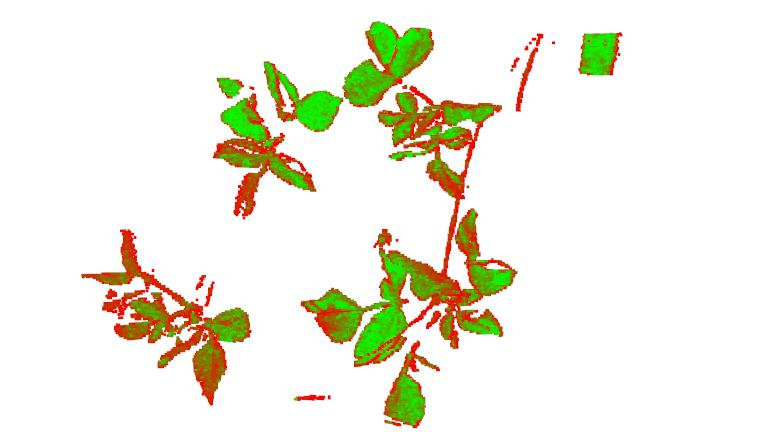mungbean: (300, 209, 520, 429), (79, 227, 252, 405), (346, 22, 503, 200), (214, 61, 344, 216)
